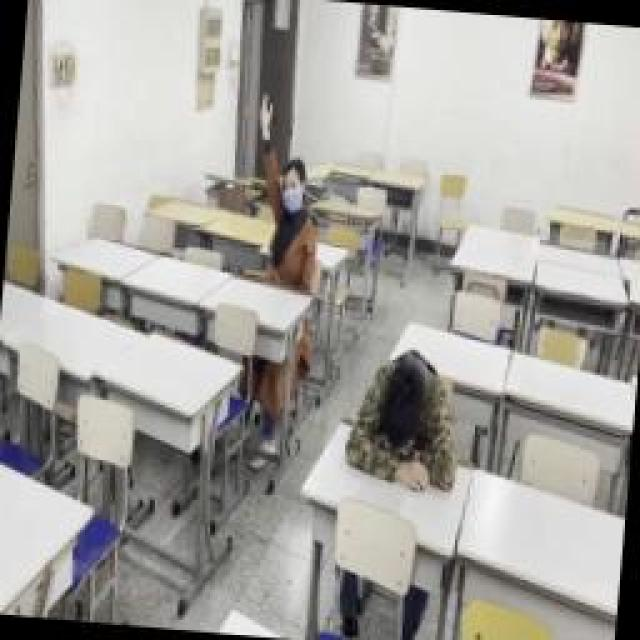sleep: (343, 345, 465, 490)
study: (242, 90, 328, 292)
